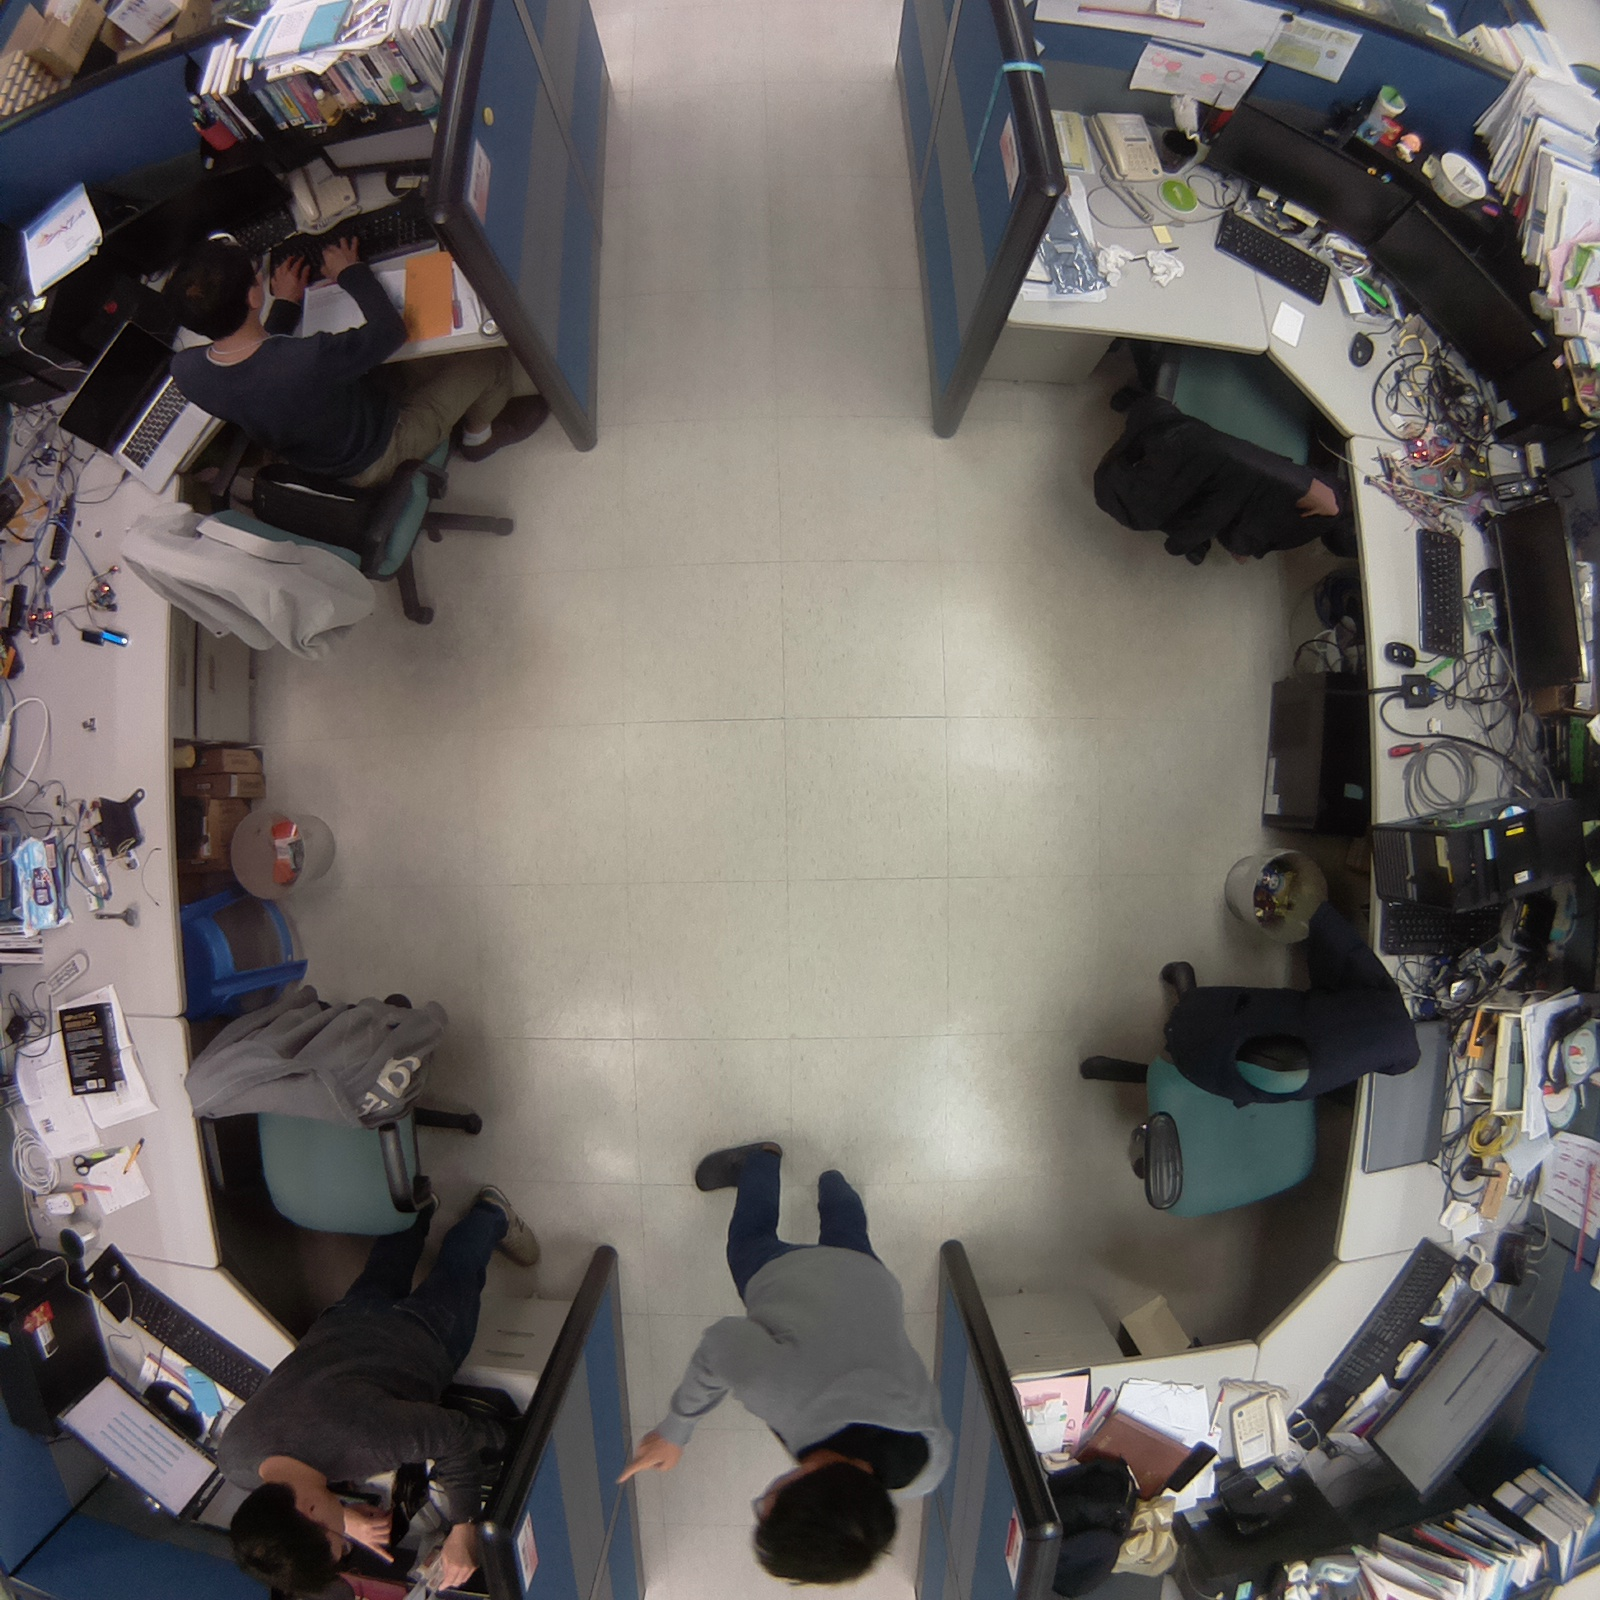chair: (1068, 904, 1429, 1234), (168, 960, 491, 1255), (1076, 314, 1358, 578)
head: (745, 1459, 903, 1595), (228, 1478, 358, 1599), (155, 236, 270, 336)
sitting: (96, 220, 578, 683)
standing: (608, 1113, 978, 1600), (213, 1175, 566, 1600)
